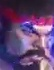ryu: (7, 11, 53, 69)
